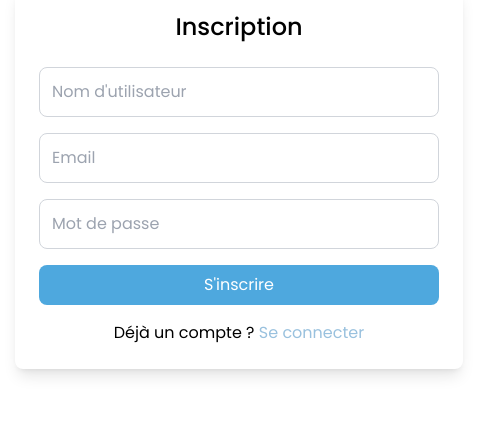
Test case: Register Component › handles registration error
This screenshot has width=479, height=435.
In the field with placeholder "Nom d'utilisateur": (239, 92) x1=39 y1=67 x2=439 y2=117, type "testuser"
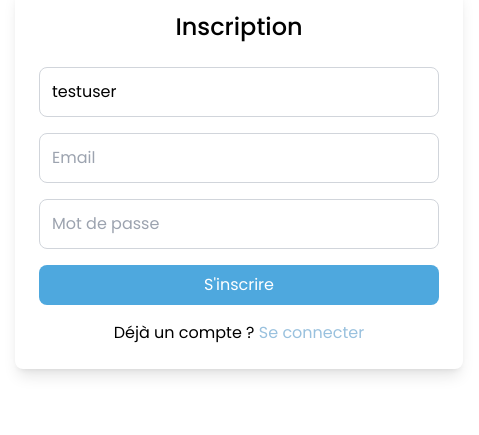
In the field with placeholder "Email": (239, 158) x1=39 y1=133 x2=439 y2=183, type "test@example.com"
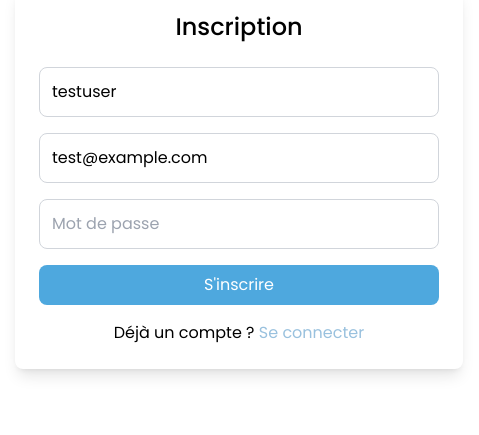
In the password field with placeholder "Mot de passe": (239, 224) x1=39 y1=199 x2=439 y2=249, type "password123"
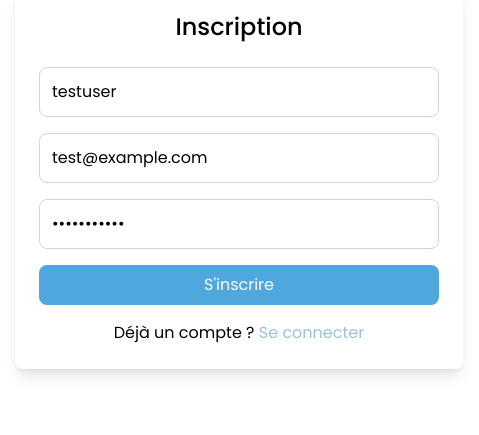
Click the button "S'inscrire": (239, 285) x1=39 y1=265 x2=439 y2=305
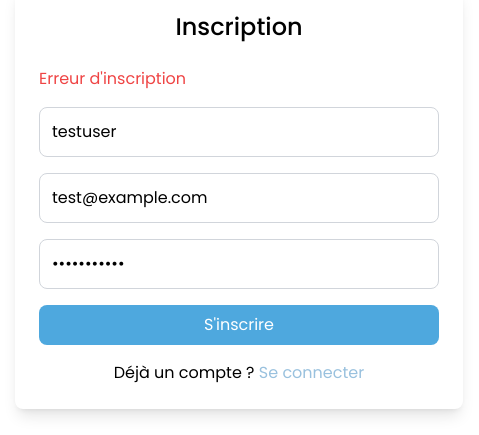
Check: the text "Erreur d'inscription" is shown, box x1=39 y1=67 x2=186 y2=90
